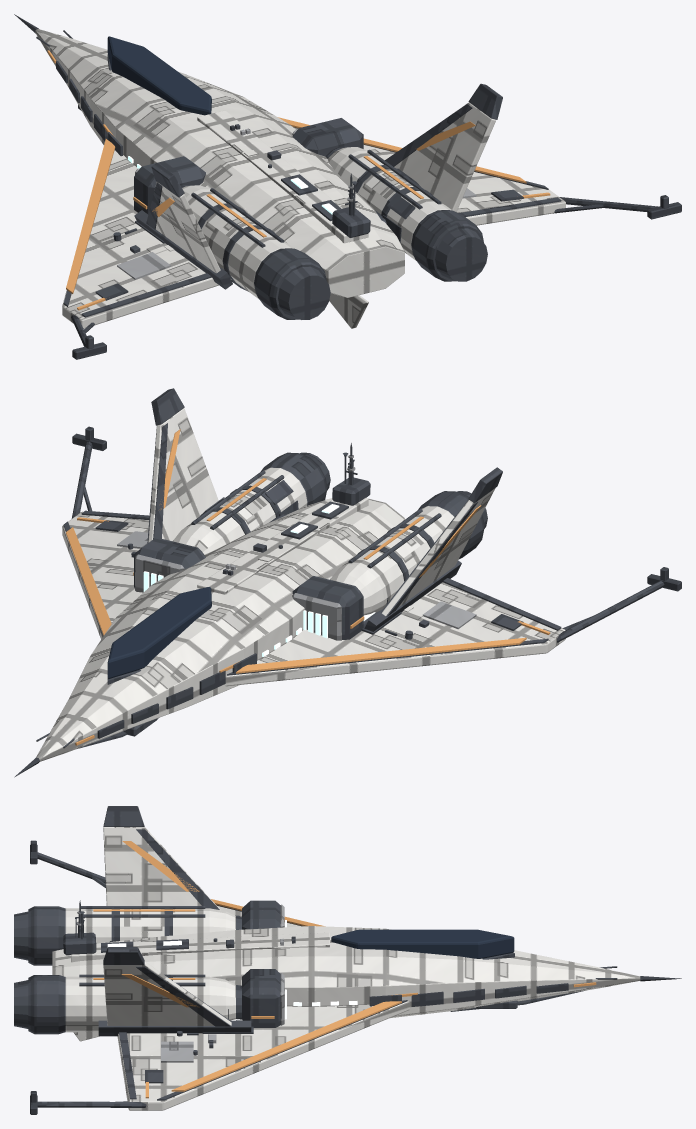
The model's file is aur-lance-interceptor.fbx.
3 renders of one model, top to bottom at view 1: azimuth 30°, elevation 25°; view 2: azimuth 150°, elevation 25°; view 3: azimuth 270°, elevation 25°, orthographic. The views are drawn at different scales.
Visible parts, largest first — view 1: Hull_White, Hull_Dark, Livery, Glass, Hull_Grey; view 2: Hull_White, Hull_Dark, Livery, Glass, Hull_Grey, Windows; view 3: Hull_White, Hull_Dark, Glass, Livery, Hull_Grey.
Boxes of the visible parts, x1,y1,x2,y2 form: Hull_White: [35, 29, 565, 328]; Hull_Dark: [14, 14, 681, 359]; Livery: [47, 50, 550, 310]; Glass: [107, 36, 211, 115]; Hull_Grey: [117, 128, 476, 279]; Hull_White: [36, 408, 565, 761]; Hull_Dark: [14, 388, 681, 777]; Livery: [66, 429, 550, 745]; Glass: [107, 587, 211, 678]; Hull_Grey: [117, 455, 476, 640]; Windows: [143, 504, 375, 656]; Hull_White: [52, 827, 640, 1110]; Hull_Dark: [14, 806, 681, 1114]; Glass: [331, 929, 514, 958]; Livery: [93, 841, 596, 1098]; Hull_Grey: [76, 904, 284, 1062].
Size of the model in its own units: 13.5 by 3.88 by 14.43.
Materials: 7 (3 with a texture image).
